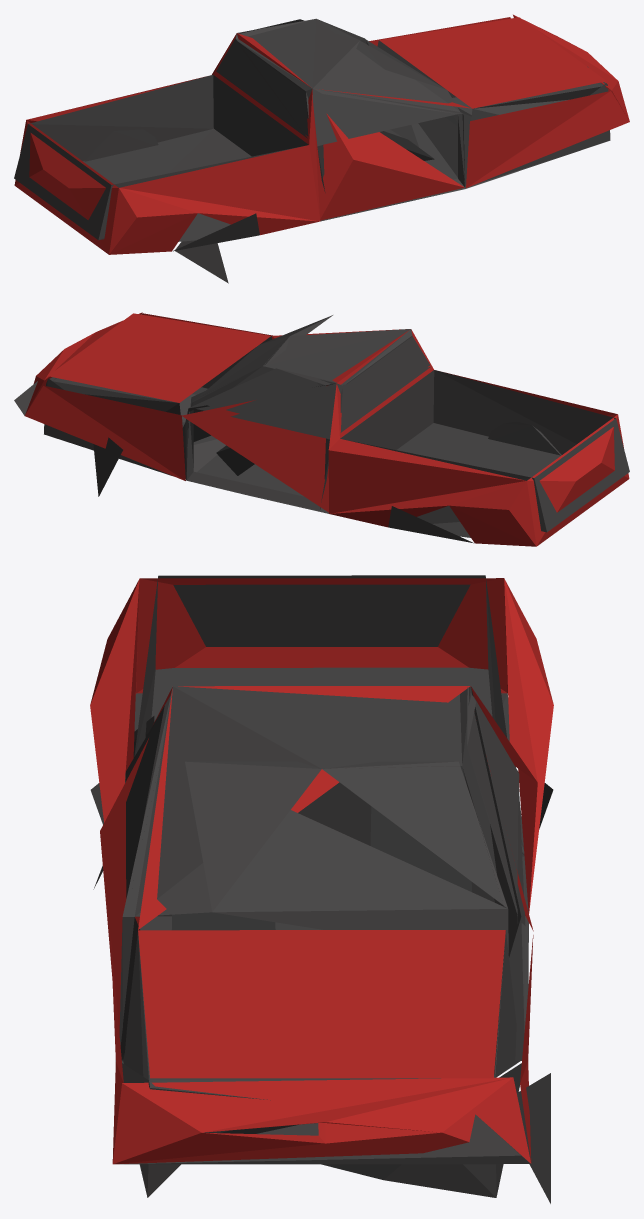
File: car-sedan.lod2.glb
3 views of the same model, one above another, from view 1: azimuth 30°, elevation 25°; view 2: azimuth 150°, elevation 25°; view 3: azimuth 270°, elevation 25° (orthographic). The views are drawn at different scales.
Visible parts, largest first — view 1: DOUTRIVE78_Body_DOUTRIVE78_bodymat_0; view 2: DOUTRIVE78_Body_DOUTRIVE78_bodymat_0; view 3: DOUTRIVE78_Body_DOUTRIVE78_bodymat_0.
Boxes of the visible parts, x1,y1,x2,y2 form: DOUTRIVE78_Body_DOUTRIVE78_bodymat_0: (14, 14, 629, 283); DOUTRIVE78_Body_DOUTRIVE78_bodymat_0: (14, 312, 629, 546); DOUTRIVE78_Body_DOUTRIVE78_bodymat_0: (90, 575, 553, 1203).
Bounding box in the file's own units: 4.4 × 1.22 × 1.67.
